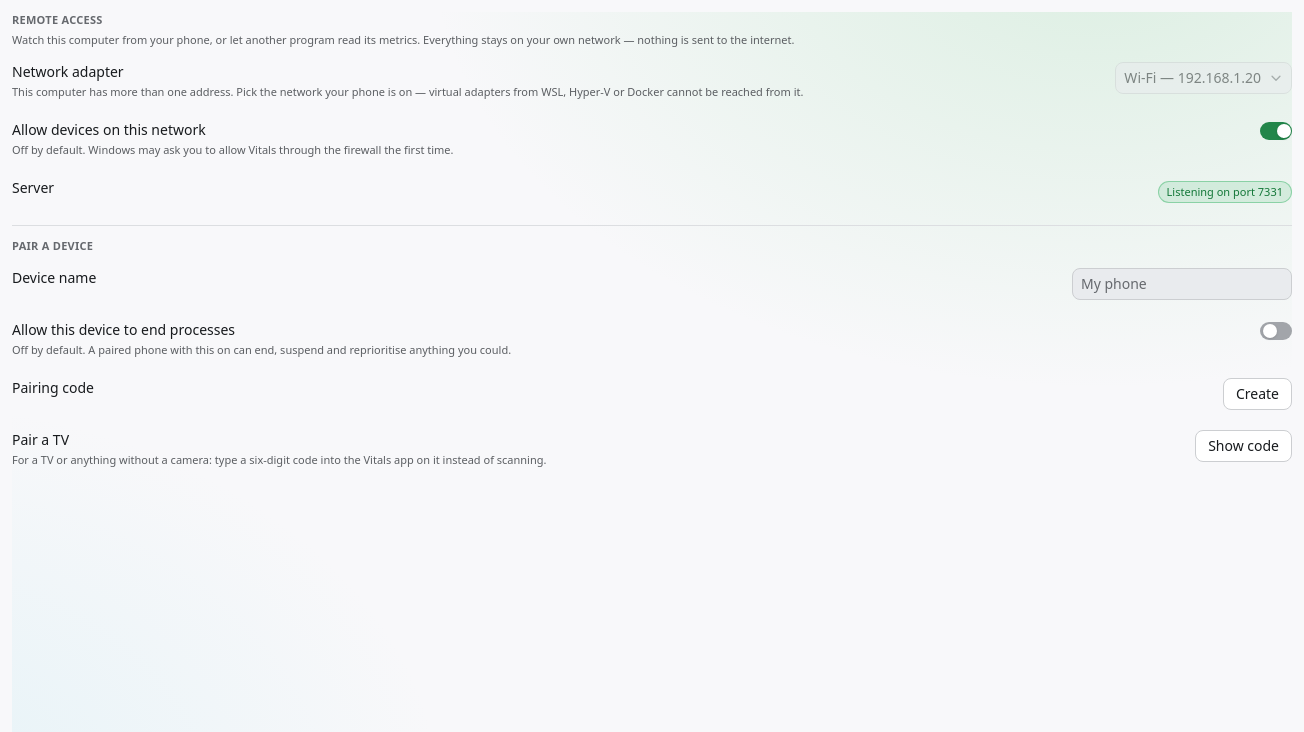
Test case: RemoteAccessPanel › says a code expired rather than waiting forever
This screenshot has width=1304, height=732.
Click the button named "pair a tv" at (1244, 446), box x1=1195 y1=430 x2=1292 y2=462
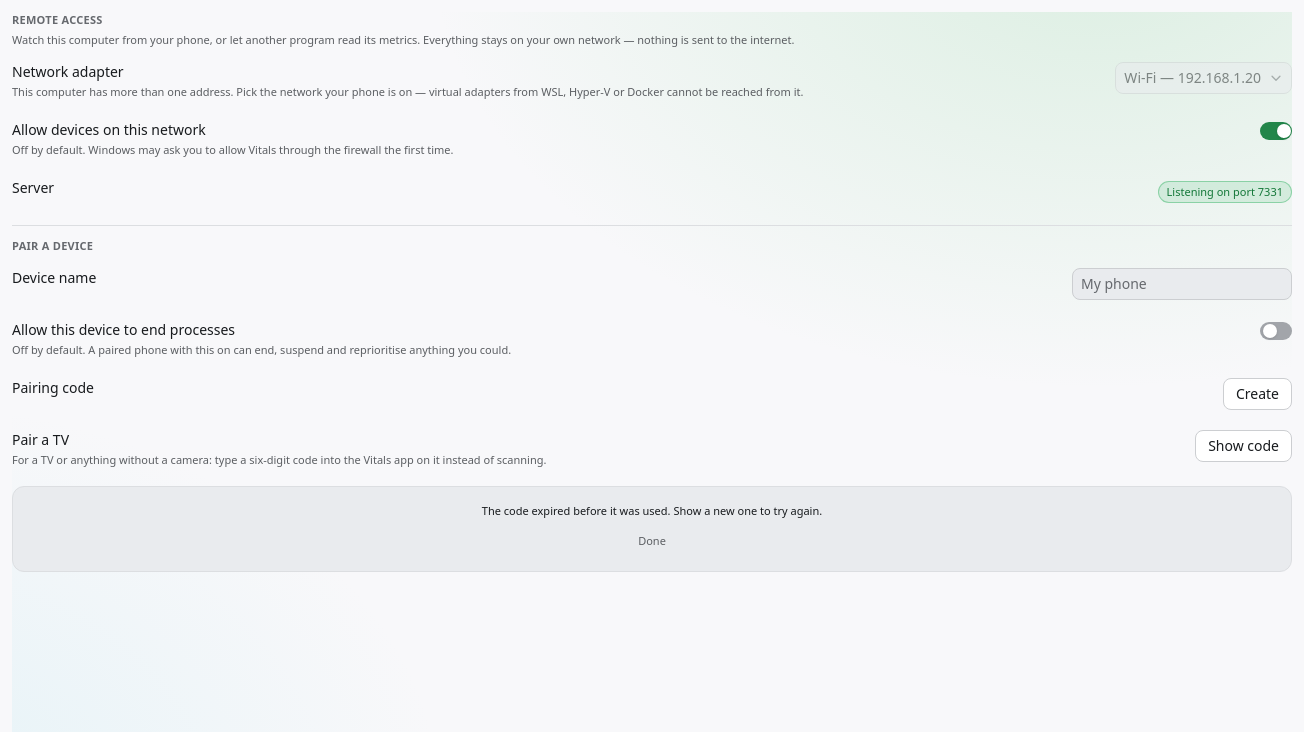
Result: the message shows "expired" at x1=482 y1=503 x2=822 y2=518
